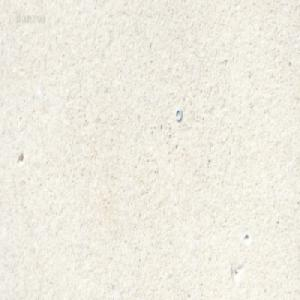Washer: (174, 107, 182, 121)
